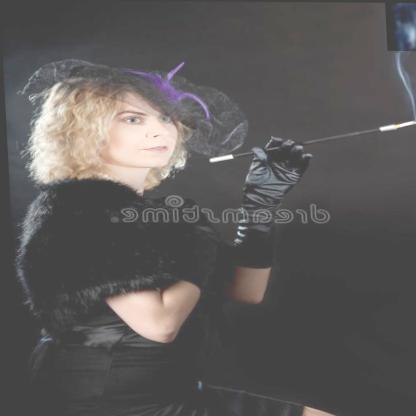smoke: (385, 2, 416, 50)
